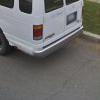Car: (4, 2, 91, 63)
